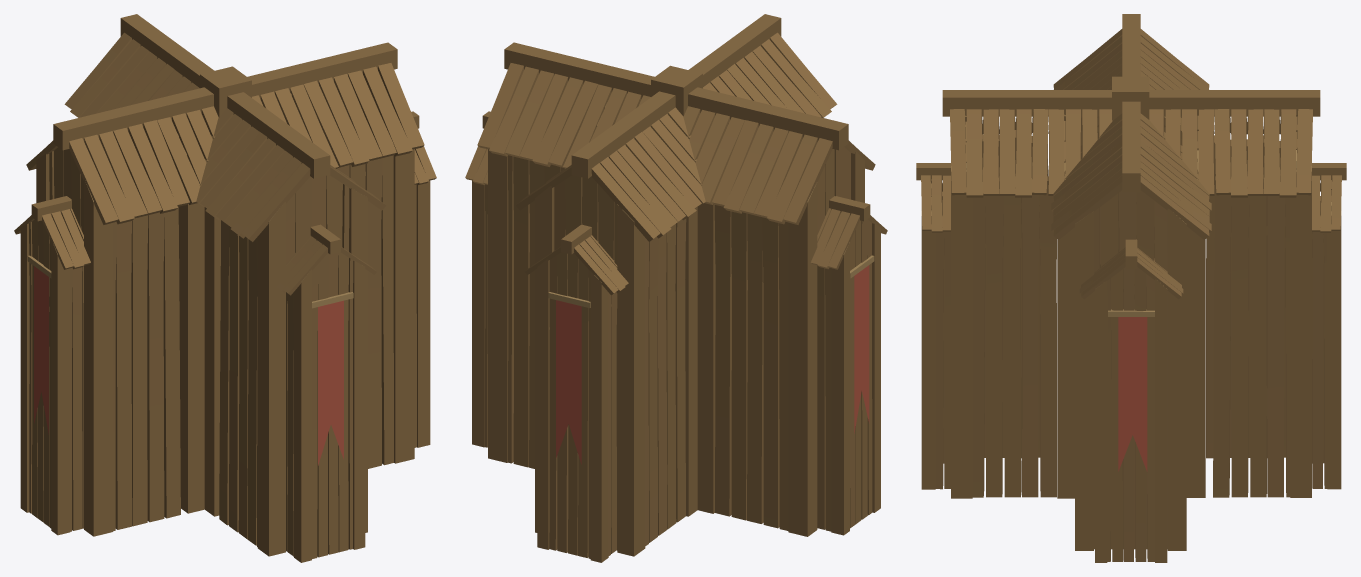
Rendered from Temple-nR264crTSr.glb.
3 views of the same model, side by side, from view 1: azimuth 30°, elevation 25°; view 2: azimuth 150°, elevation 25°; view 3: azimuth 270°, elevation 25° (orthographic). The views are drawn at different scales.
Parts seen in each view (by area): view 1: Temple_FirstAge_Level1; view 2: Temple_FirstAge_Level1; view 3: Temple_FirstAge_Level1.
Part boxes in pixels (x1,y1,x2,y2): Temple_FirstAge_Level1: (14,14,436,562); Temple_FirstAge_Level1: (465,14,887,562); Temple_FirstAge_Level1: (916,14,1346,562).
Bounding box in the file's own units: 1.81 × 1.81 × 1.81.
